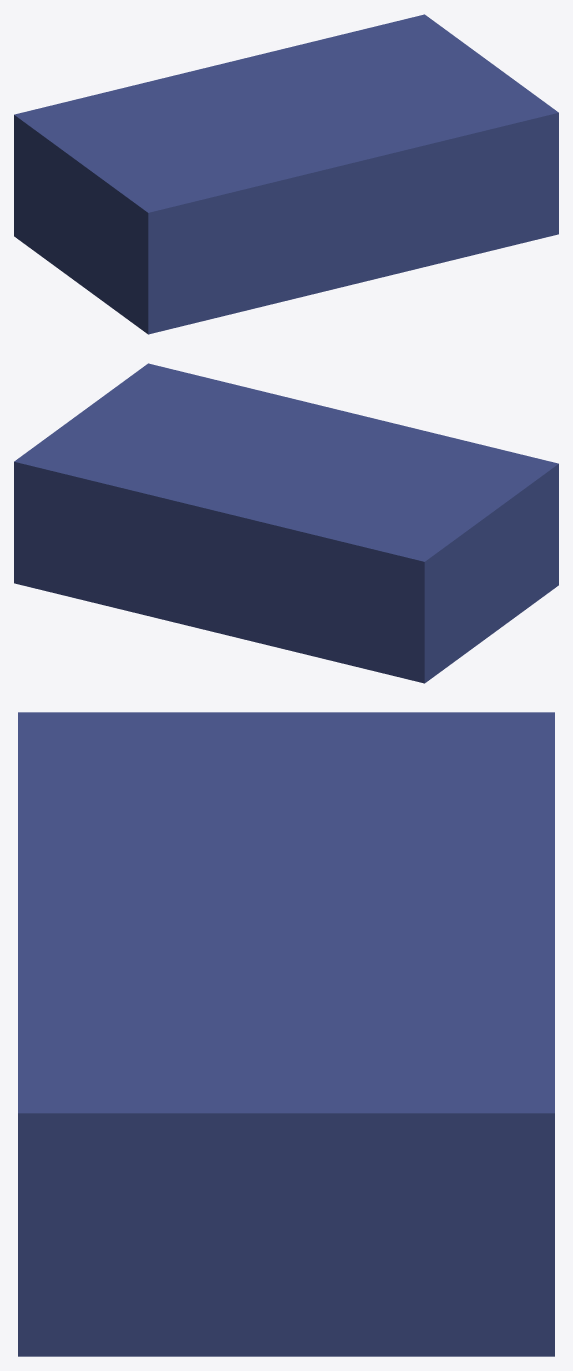
Rendered from piloto_comercial_cintura.glb.
The picture shows the model from 3 angles, top to bottom: view 1: azimuth 30°, elevation 25°; view 2: azimuth 150°, elevation 25°; view 3: azimuth 270°, elevation 25°; orthographic projection. The views are drawn at different scales.
Visible parts, largest first — view 1: piloto_comercial_cintura; view 2: piloto_comercial_cintura; view 3: piloto_comercial_cintura.
Part boxes in pixels (left/top/right/bottom): piloto_comercial_cintura: left=14, top=14, right=558, bottom=334; piloto_comercial_cintura: left=14, top=363, right=558, bottom=683; piloto_comercial_cintura: left=18, top=712, right=554, bottom=1356.
Size of the model in its own units: 0.53 by 0.15 by 0.3.
